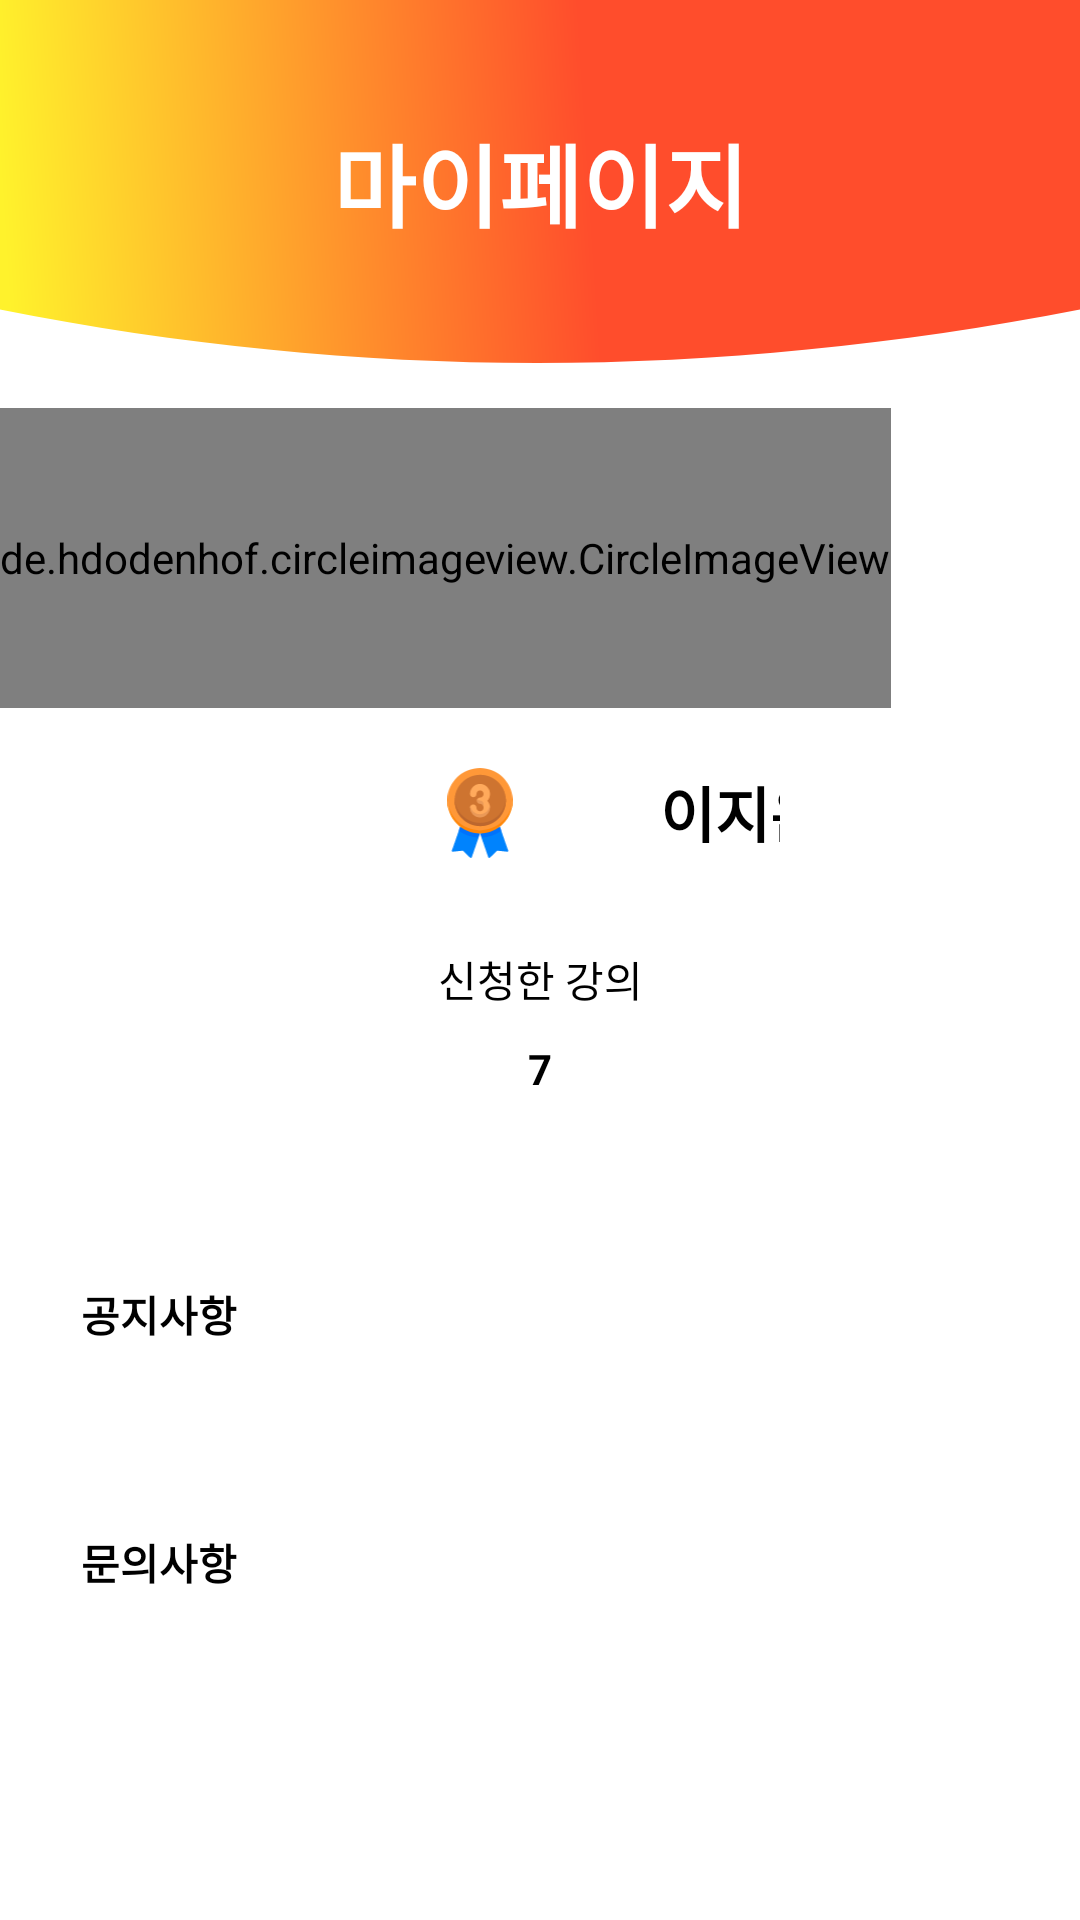

Icons on this 1080px×1920px Android screen, each with its box as (x1, y1, x2, y2):
medal: (447, 768, 513, 858)
